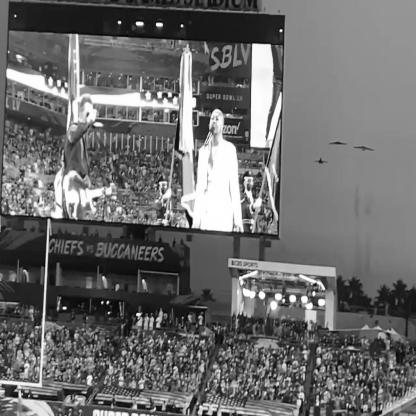B1: (315, 158, 329, 166)
B2: (330, 142, 348, 147)
B52: (354, 147, 375, 153)
